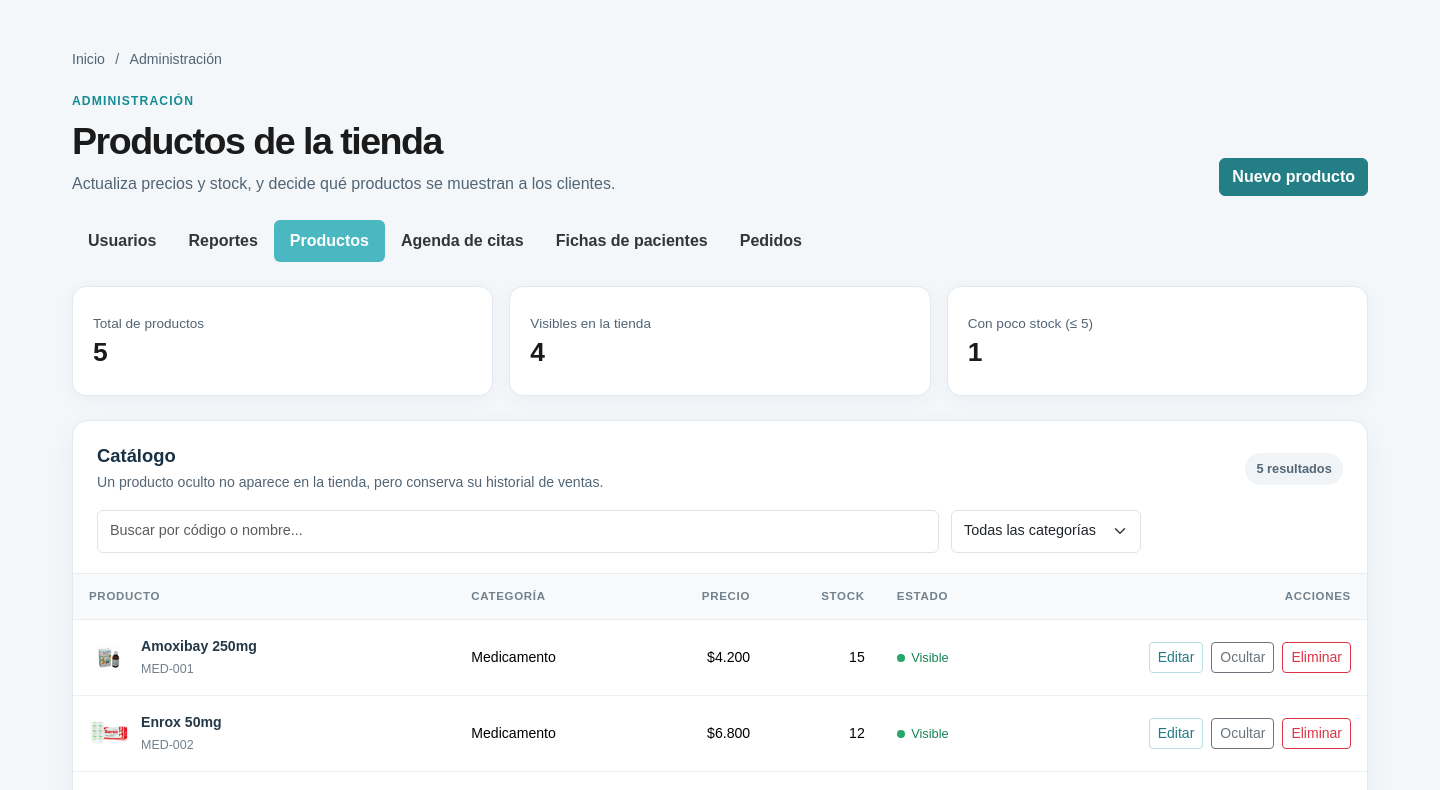
it: Productos (administración) › filtra por texto y por categoría
This screenshot has width=1440, height=790.
In the field named "Buscar productos": [518, 531] box [97,510,939,553], type "enrox"
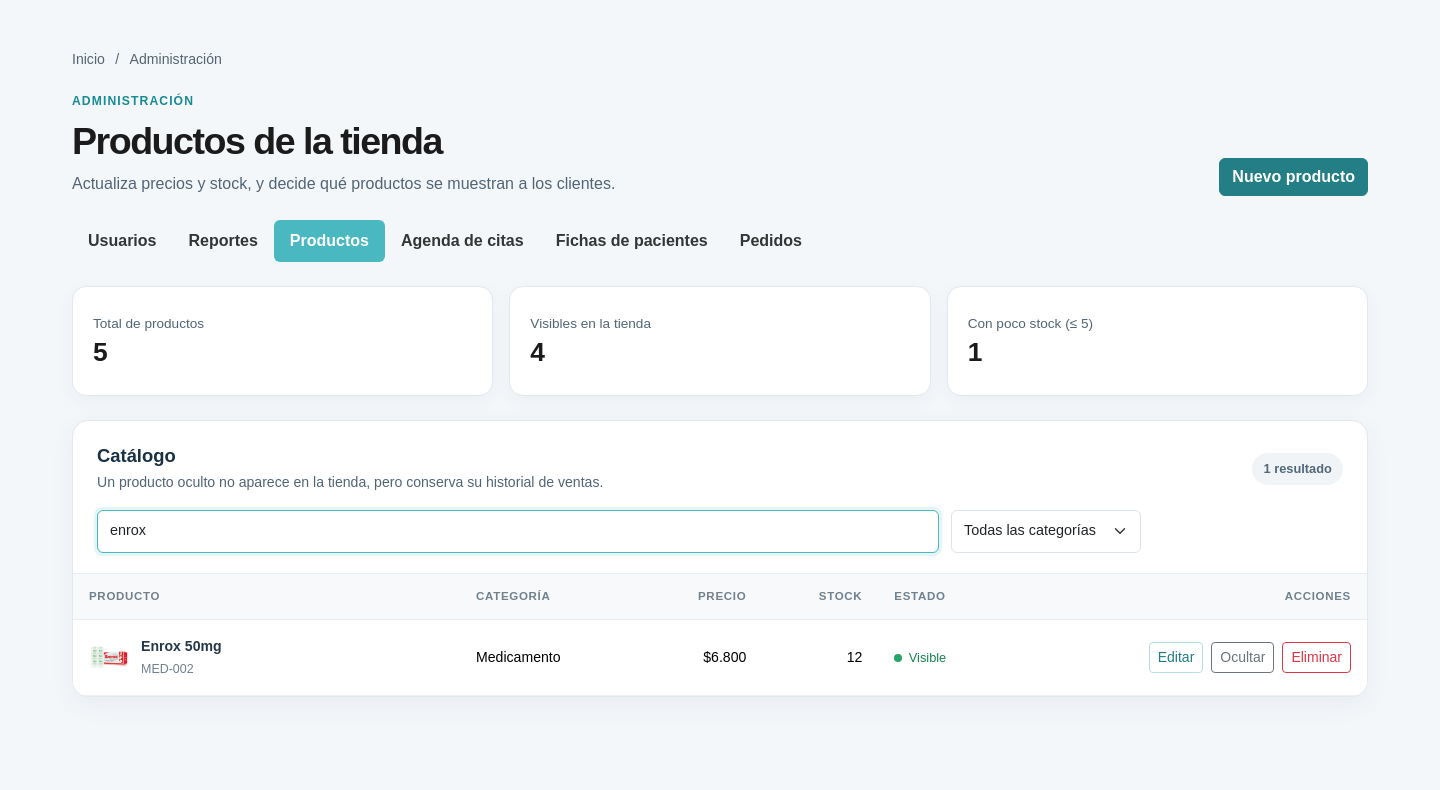
Check: the text "Enrox 50mg" is shown, box [141,635,222,658]
Check: the text "Amoxibay 250mg" is gone
Clear the field named "Buscar productos": [518, 531] box [97,510,939,553]
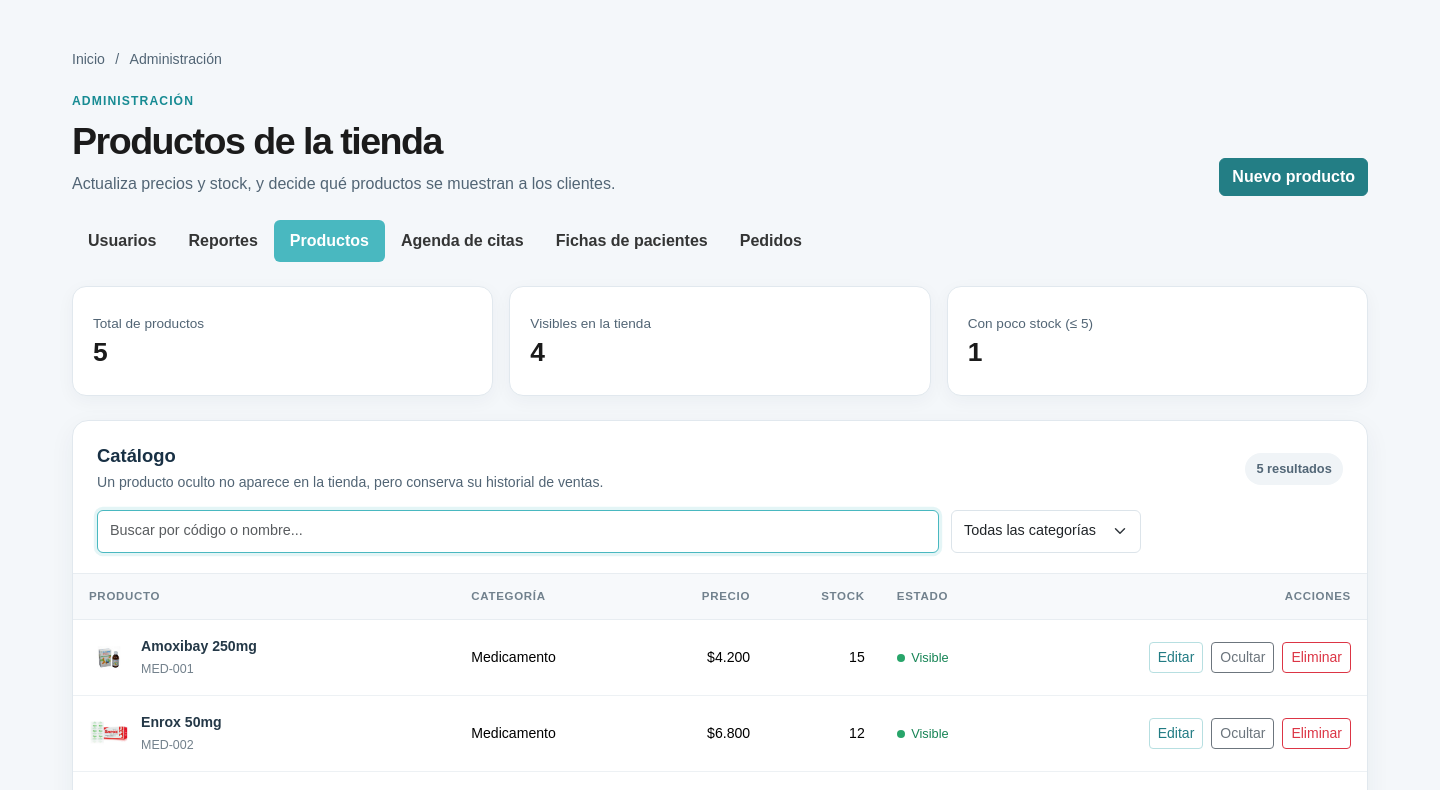
Select "Antiparasitario" in the dropdown named "Filtrar por categoría": [1046, 531] box [951,510,1141,553]
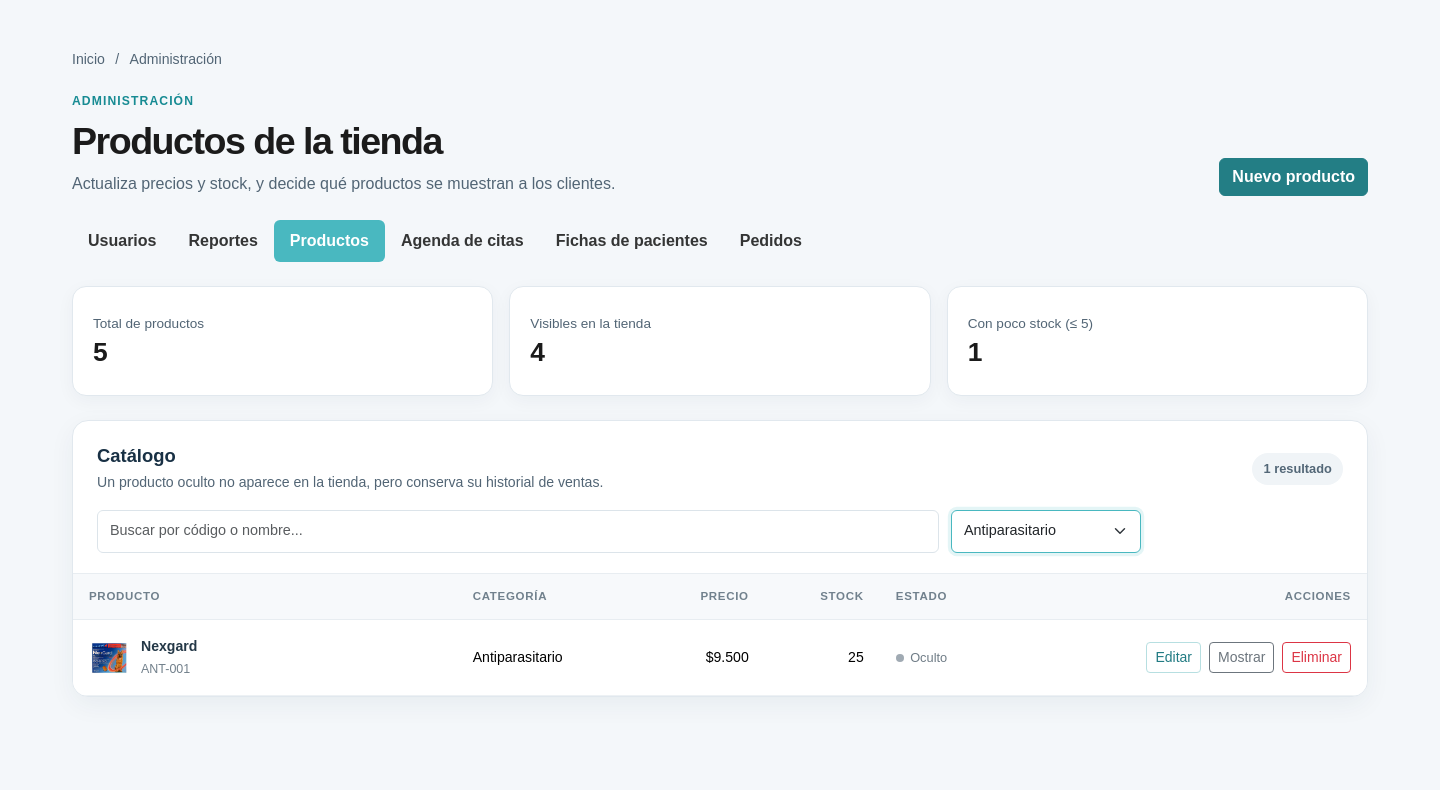
Check: the text "Nexgard" is shown, box [141,635,197,658]
Check: the text "Enrox 50mg" is gone
